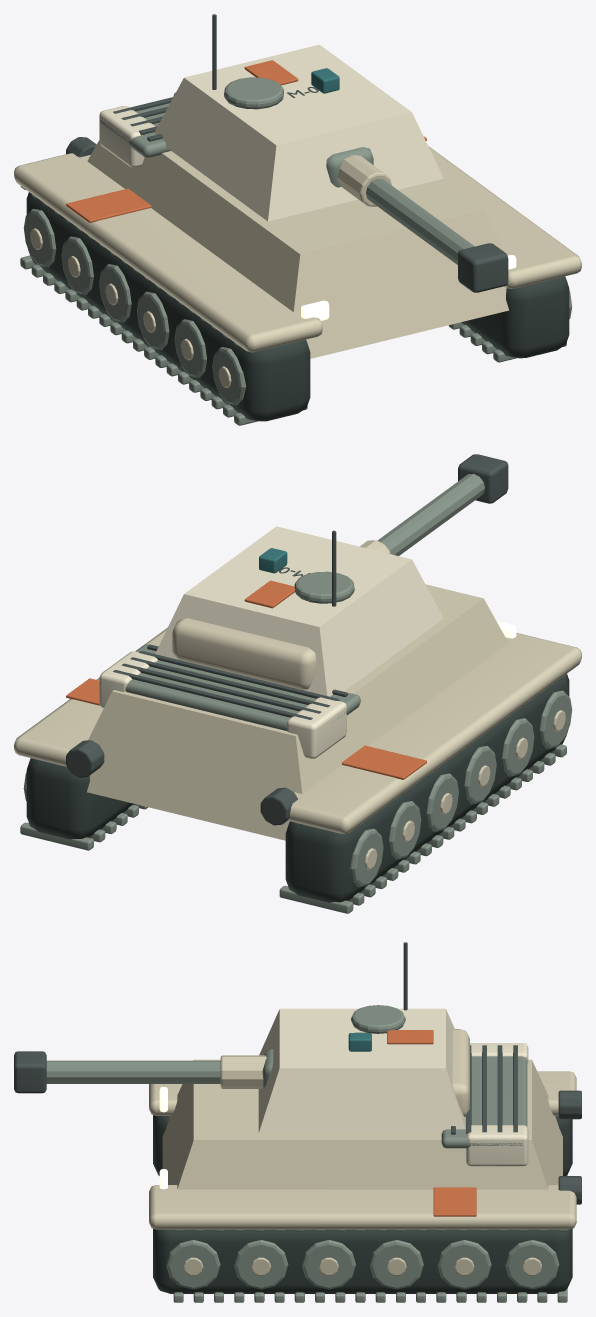
The model's file is tank-medium.glb.
3 views of the same model, one above another, from view 1: azimuth 30°, elevation 25°; view 2: azimuth 150°, elevation 25°; view 3: azimuth 270°, elevation 25° (orthographic). The views are drawn at different scales.
Visible parts, largest first — view 1: LeftTrackAssembly, Hull, TurretYaw, RightTrackAssembly, GunPitch; view 2: Hull, LeftTrackAssembly, TurretYaw, RightTrackAssembly, GunPitch; view 3: RightTrackAssembly, Hull, TurretYaw, GunPitch, LeftTrackAssembly.
Part boxes in pixels (bbox=[...]): LeftTrackAssembly: bbox=[14, 153, 322, 425]; Hull: bbox=[66, 97, 516, 358]; TurretYaw: bbox=[154, 14, 443, 221]; RightTrackAssembly: bbox=[423, 136, 581, 362]; GunPitch: bbox=[326, 147, 508, 292]; Hull: bbox=[66, 584, 516, 840]; LeftTrackAssembly: bbox=[279, 633, 581, 913]; TurretYaw: bbox=[155, 526, 443, 696]; RightTrackAssembly: bbox=[14, 627, 167, 850]; GunPitch: bbox=[360, 454, 508, 555]; RightTrackAssembly: bbox=[149, 1185, 576, 1302]; Hull: bbox=[159, 1043, 581, 1204]; TurretYaw: bbox=[258, 942, 469, 1133]; GunPitch: bbox=[14, 1049, 273, 1093]; LeftTrackAssembly: bbox=[149, 1071, 576, 1175].
Size of the model in its own units: 4.51 by 3.72 by 7.31.
